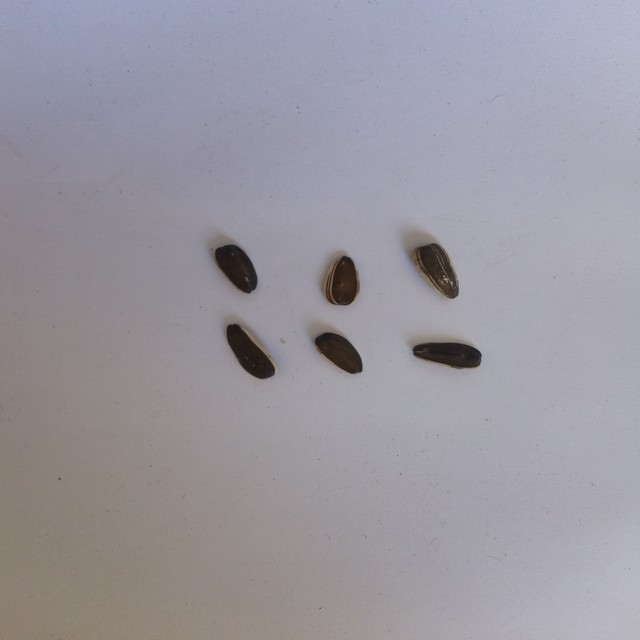girasol: (220, 320, 277, 383), (410, 239, 459, 303), (406, 339, 485, 376), (312, 325, 365, 380), (209, 241, 257, 300), (327, 251, 361, 309)
